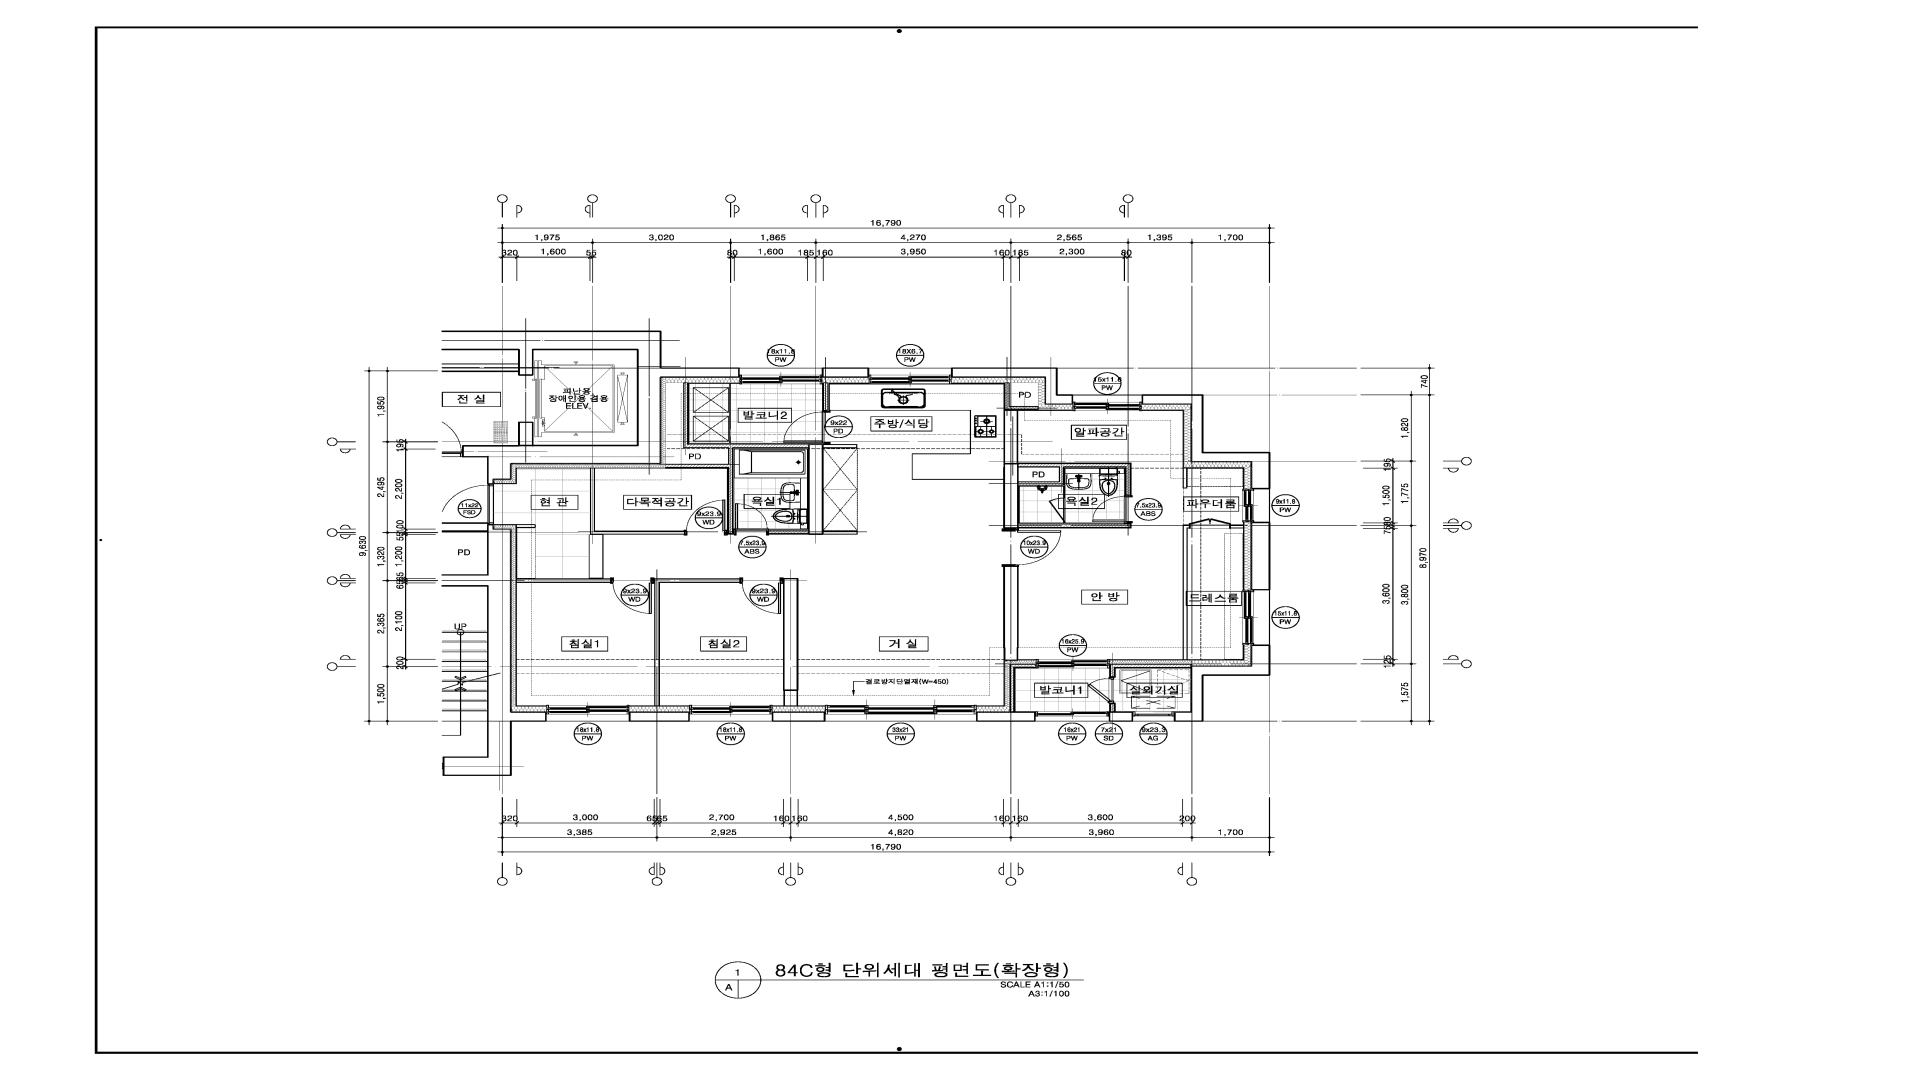background: (1, 0, 1920, 1080)
door: (1003, 527, 1061, 567), (442, 484, 494, 524), (739, 578, 783, 614), (610, 578, 654, 614), (684, 499, 727, 535), (783, 411, 829, 444), (733, 503, 769, 535), (1092, 495, 1131, 523), (1088, 677, 1116, 703), (1189, 518, 1231, 528), (1049, 498, 1065, 521)
wall: (441, 331, 740, 484), (441, 524, 546, 776), (666, 383, 810, 535), (1142, 394, 1270, 489), (654, 578, 739, 705), (1174, 645, 1270, 722), (590, 468, 684, 535), (951, 367, 1073, 404), (1017, 463, 1131, 495), (783, 578, 799, 705), (1003, 411, 1017, 527), (1003, 567, 1019, 660), (810, 444, 824, 535), (1252, 522, 1270, 590), (1010, 664, 1036, 711), (1109, 665, 1191, 677), (1004, 383, 1038, 411), (1183, 525, 1189, 659), (976, 711, 1036, 722), (1017, 523, 1132, 528), (629, 713, 690, 722), (772, 713, 825, 722), (822, 367, 869, 377), (517, 578, 610, 583), (687, 443, 823, 445), (1109, 711, 1133, 722), (769, 530, 810, 535), (822, 383, 827, 411), (824, 532, 858, 535), (824, 444, 857, 447), (1183, 469, 1188, 488), (517, 524, 536, 528), (1063, 469, 1065, 498), (1109, 703, 1116, 711), (827, 383, 829, 411), (1124, 469, 1126, 495), (1231, 524, 1243, 528), (1063, 521, 1065, 523)
window: (825, 705, 976, 721), (1243, 590, 1270, 645), (689, 705, 772, 722), (739, 367, 822, 384), (869, 367, 951, 384), (546, 705, 629, 721), (1073, 394, 1142, 411), (1243, 489, 1270, 522), (1035, 711, 1109, 721), (1036, 659, 1109, 668), (1133, 711, 1174, 722)
